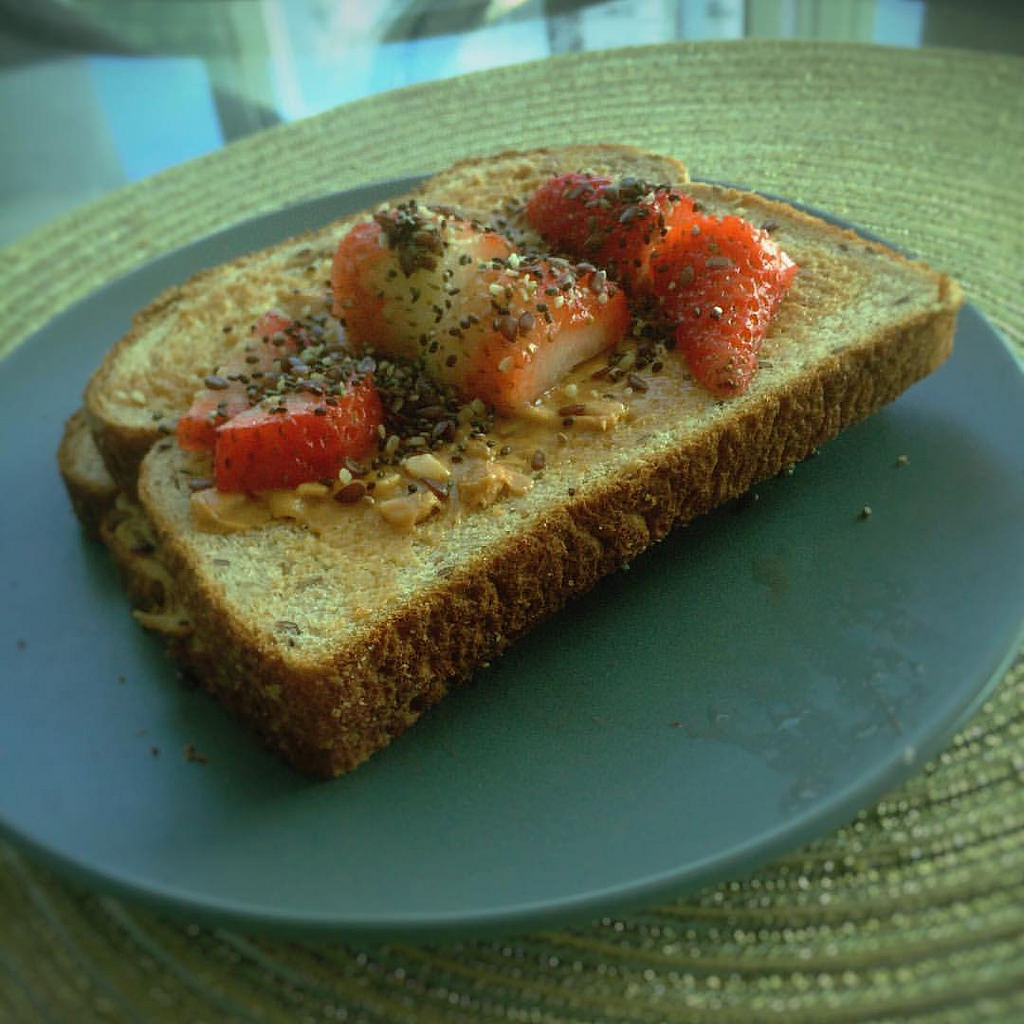slice of bread: (96, 471, 545, 742)
